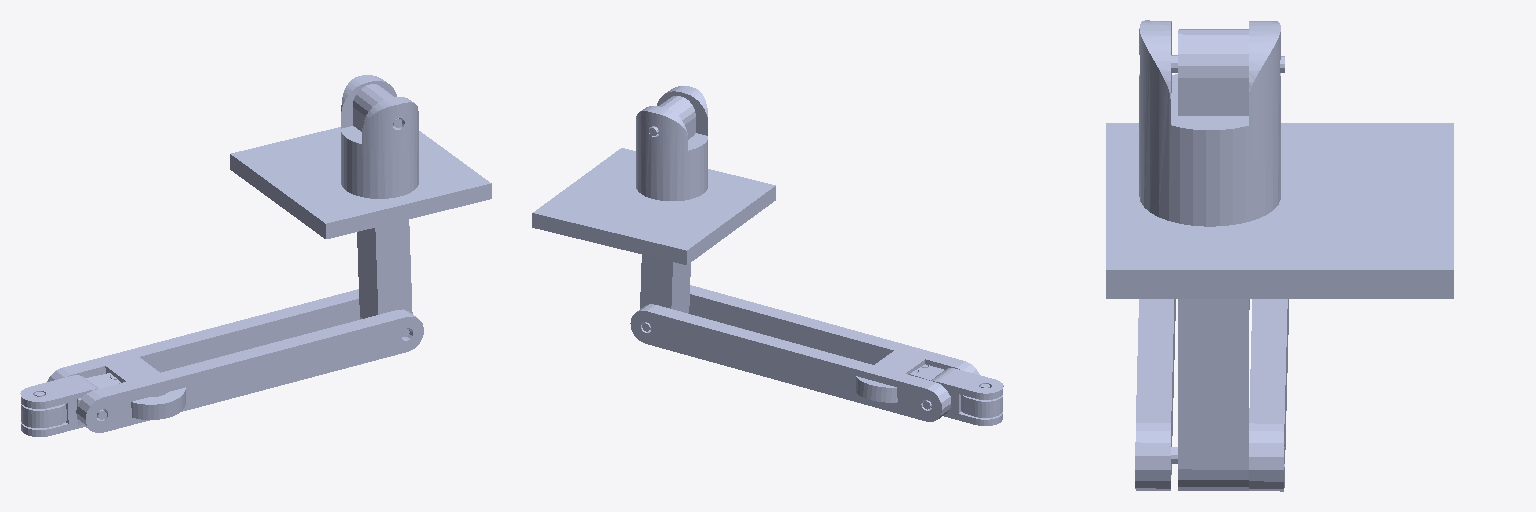
The robot description file, URDF, robot "Kinematic Model":
<?xml version="1.0" encoding="utf-8"?>
<!-- This URDF was automatically created by SolidWorks to URDF Exporter! Originally created by [author] ([email redacted]) 
     Commit Version: 1.6.0-4-g7f85cfe  Build Version: 1.6.7995.38578
     For more information, please see http://wiki.ros.org/sw_urdf_exporter -->
<robot
  name="Kinematic Model">
  <link
    name="base_link">
    <inertial>
      <origin
        xyz="0.125 0.124876444248601 0.0114927663217105"
        rpy="0 0 0" />
      <mass
        value="1.4322893517415" />
      <inertia
        ixx="0.00751499612969008"
        ixy="-4.14857977079374E-20"
        ixz="5.59883976854344E-23"
        iyy="0.00750616961569954"
        iyz="4.48386910719772E-06"
        izz="0.0148917103717458" />
    </inertial>
    <visual>
      <origin
        xyz="0 0 0"
        rpy="0 0 0" />
      <geometry>
        <mesh
          filename="package://Kinematic Model/meshes/base_link.STL" />
      </geometry>
      <material
        name="">
        <color
          rgba="0.792156862745098 0.819607843137255 0.933333333333333 1" />
      </material>
    </visual>
    <collision>
      <origin
        xyz="0 0 0"
        rpy="0 0 0" />
      <geometry>
        <mesh
          filename="package://Kinematic Model/meshes/base_link.STL" />
      </geometry>
    </collision>
  </link>
  <link
    name="link 1">
    <inertial>
      <origin
        xyz="1.35962641978349E-08 -4.49406609148717E-10 0.0499583991824579"
        rpy="0 0 0" />
      <mass
        value="0.745389957969349" />
      <inertia
        ixx="0.001236165400749"
        ixy="-2.28287179719541E-09"
        ixz="3.29901987186261E-10"
        iyy="0.0013781182334038"
        iyz="-4.34931645812276E-09"
        izz="0.00103853376973756" />
    </inertial>
    <visual>
      <origin
        xyz="0 0 0"
        rpy="0 0 0" />
      <geometry>
        <mesh
          filename="package://Kinematic Model/meshes/link 1.STL" />
      </geometry>
      <material
        name="">
        <color
          rgba="0.792156862745098 0.819607843137255 0.933333333333333 1" />
      </material>
    </visual>
    <collision>
      <origin
        xyz="0 0 0"
        rpy="0 0 0" />
      <geometry>
        <mesh
          filename="package://Kinematic Model/meshes/link 1.STL" />
      </geometry>
    </collision>
  </link>
  <joint
    name="joint1"
    type="revolute">
    <origin
      xyz="0.125 0.075 0.02286"
      rpy="0 0 1.5604" />
    <parent
      link="base_link" />
    <child
      link="link 1" />
    <axis
      xyz="0 0 1" />
    <limit
      lower="-1.57"
      upper="1.57"
      effort="0"
      velocity="1000" />
  </joint>
  <link
    name="link 2">
    <inertial>
      <origin
        xyz="-0.00254000000000003 -1.38777878078145E-16 0.1524"
        rpy="0 0 0" />
      <mass
        value="0.902412401721688" />
      <inertia
        ixx="0.00932089199361009"
        ixy="5.21772295508649E-19"
        ixz="3.29211266351205E-18"
        iyy="0.00934567259590457"
        iyz="1.80203426434754E-18"
        izz="0.000396566779325695" />
    </inertial>
    <visual>
      <origin
        xyz="0 0 0"
        rpy="0 0 0" />
      <geometry>
        <mesh
          filename="package://Kinematic Model/meshes/link 2.STL" />
      </geometry>
      <material
        name="">
        <color
          rgba="0.792156862745098 0.819607843137255 0.933333333333333 1" />
      </material>
    </visual>
    <collision>
      <origin
        xyz="0 0 0"
        rpy="0 0 0" />
      <geometry>
        <mesh
          filename="package://Kinematic Model/meshes/link 2.STL" />
      </geometry>
    </collision>
  </link>
  <joint
    name="joint2"
    type="revolute">
    <origin
      xyz="0 0 0.10478"
      rpy="0.034608 0 -3.1416" />
    <parent
      link="link 1" />
    <child
      link="link 2" />
    <axis
      xyz="1 0 0" />
    <limit
      lower="-4.71"
      upper="-1.57"
      effort="0"
      velocity="1000" />
  </joint>
  <link
    name="link 3">
    <inertial>
      <origin
        xyz="-7.49400541621981E-16 -0.244277581812728 4.6074255521944E-15"
        rpy="0 0 0" />
      <mass
        value="1.40181180581322" />
      <inertia
        ixx="0.0284750839313573"
        ixy="-7.46524017733105E-17"
        ixz="-6.46286138755031E-19"
        iyy="0.00248306633762881"
        iyz="4.43761218675115E-17"
        izz="0.03035643992009" />
    </inertial>
    <visual>
      <origin
        xyz="0 0 0"
        rpy="0 0 0" />
      <geometry>
        <mesh
          filename="package://Kinematic Model/meshes/link 3.STL" />
      </geometry>
      <material
        name="">
        <color
          rgba="0.792156862745098 0.819607843137255 0.933333333333333 1" />
      </material>
    </visual>
    <collision>
      <origin
        xyz="0 0 0"
        rpy="0 0 0" />
      <geometry>
        <mesh
          filename="package://Kinematic Model/meshes/link 3.STL" />
      </geometry>
    </collision>
  </link>
  <joint
    name="joint3"
    type="revolute">
    <origin
      xyz="0 0 0.3048"
      rpy="3.1314 0 0" />
    <parent
      link="link 2" />
    <child
      link="link 3" />
    <axis
      xyz="1 0 0" />
    <limit
      lower="0"
      upper="3.14"
      effort="0"
      velocity="1000" />
  </joint>
  <link
    name="link 4">
    <inertial>
      <origin
        xyz="0 -0.0190759946076533 0"
        rpy="0 0 0" />
      <mass
        value="0.194716381321942" />
      <inertia
        ixx="0.00018975455749685"
        ixy="-6.35274710440725E-21"
        ixz="-1.19047833758632E-20"
        iyy="9.84824842685459E-05"
        iyz="9.12637559289373E-19"
        izz="0.000194597566216488" />
    </inertial>
    <visual>
      <origin
        xyz="0 0 0"
        rpy="0 0 0" />
      <geometry>
        <mesh
          filename="package://Kinematic Model/meshes/link 4.STL" />
      </geometry>
      <material
        name="">
        <color
          rgba="0.792156862745098 0.819607843137255 0.933333333333333 1" />
      </material>
    </visual>
    <collision>
      <origin
        xyz="0 0 0"
        rpy="0 0 0" />
      <geometry>
        <mesh
          filename="package://Kinematic Model/meshes/link 4.STL" />
      </geometry>
    </collision>
  </link>
  <joint
    name="joint4"
    type="revolute">
    <origin
      xyz="0 -0.4572 0"
      rpy="-0.0047459 0 0" />
    <parent
      link="link 3" />
    <child
      link="link 4" />
    <axis
      xyz="1 0 0" />
    <limit
      lower="-1.57"
      upper="1.57"
      effort="0"
      velocity="1000" />
  </joint>
  <link
    name="link 5">
    <inertial>
      <origin
        xyz="-4.85722573273506E-17 -0.0228654552938931 -5.68305317155682E-05"
        rpy="0 0 0" />
      <mass
        value="0.0345139192629378" />
      <inertia
        ixx="3.9382385101554E-05"
        ixy="-1.41878018665095E-20"
        ixz="1.49719690872098E-21"
        iyy="9.77314082989533E-06"
        iyz="4.48493188575395E-08"
        izz="4.18538740394483E-05" />
    </inertial>
    <visual>
      <origin
        xyz="0 0 0"
        rpy="0 0 0" />
      <geometry>
        <mesh
          filename="package://Kinematic Model/meshes/link 5.STL" />
      </geometry>
      <material
        name="">
        <color
          rgba="0.792156862745098 0.819607843137255 0.933333333333333 1" />
      </material>
    </visual>
    <collision>
      <origin
        xyz="0 0 0"
        rpy="0 0 0" />
      <geometry>
        <mesh
          filename="package://Kinematic Model/meshes/link 5.STL" />
      </geometry>
    </collision>
  </link>
  <joint
    name="joint5"
    type="revolute">
    <origin
      xyz="0 -0.0635 0"
      rpy="3.1416 0 3.0664" />
    <parent
      link="link 4" />
    <child
      link="link 5" />
    <axis
      xyz="0 0 1" />
    <limit
      lower="1.57"
      upper="4.71"
      effort="0"
      velocity="1000" />
  </joint>
  <link
    name="link 6">
    <inertial>
      <origin
        xyz="0.00308285974901888 -0.0721978117099332 1.68677960488139E-10"
        rpy="0 0 0" />
      <mass
        value="0.20810172376109" />
      <inertia
        ixx="0.000148964014298967"
        ixy="9.90419646766673E-06"
        ixz="-3.69564194208723E-13"
        iyy="8.63259499506949E-05"
        iyz="2.04359342953527E-12"
        izz="0.000194010143112663" />
    </inertial>
    <visual>
      <origin
        xyz="0 0 0"
        rpy="0 0 0" />
      <geometry>
        <mesh
          filename="package://Kinematic Model/meshes/link 6.STL" />
      </geometry>
      <material
        name="">
        <color
          rgba="0.792156862745098 0.819607843137255 0.933333333333333 1" />
      </material>
    </visual>
    <collision>
      <origin
        xyz="0 0 0"
        rpy="0 0 0" />
      <geometry>
        <mesh
          filename="package://Kinematic Model/meshes/link 6.STL" />
      </geometry>
    </collision>
  </link>
  <joint
    name="joint6"
    type="revolute">
    <origin
      xyz="0 -0.042878 0"
      rpy="-3.1416 0.060969 3.1416" />
    <parent
      link="link 5" />
    <child
      link="link 6" />
    <axis
      xyz="0 1 0" />
    <limit
      lower="-6.28"
      upper="6.28"
      effort="0"
      velocity="1000" />
  </joint>
</robot>

--- What the picture shows (computed from the rendered views, not written in the file) ---
3 views of the same robot in one strip: view 1: azimuth 30°, elevation 25°; view 2: azimuth 150°, elevation 25°; view 3: azimuth 270°, elevation 25° (orthographic).
Robot: Kinematic Model — 7 links, 6 joints (6 revolute); root link base_link; default pose: all joints at 0 but 2 set to mid-range because 0 is outside their limits (joint2 = -3.14, joint5 = 3.14).
Visible links, largest first — view 1: link 3, base_link, link 1, link 2, link 4, link 6, link 5; view 2: link 3, base_link, link 1, link 2, link 4, link 6, link 5; view 3: base_link, link 1, link 2, link 3.
Link boxes in pixels (left/top/right/bottom): link 3: left=47, top=289, right=423, bottom=432; base_link: left=230, top=127, right=491, bottom=238; link 1: left=341, top=75, right=418, bottom=198; link 2: left=353, top=84, right=412, bottom=336; link 4: left=20, top=375, right=106, bottom=436; link 6: left=77, top=363, right=185, bottom=425; link 5: left=21, top=392, right=66, bottom=427; link 3: left=630, top=285, right=979, bottom=421; base_link: left=532, top=148, right=775, bottom=264; link 1: left=636, top=86, right=707, bottom=200; link 2: left=640, top=96, right=695, bottom=331; link 4: left=923, top=368, right=1003, bottom=425; link 6: left=855, top=364, right=943, bottom=402; link 5: left=961, top=384, right=1002, bottom=417; base_link: left=1106, top=123, right=1453, bottom=298; link 1: left=1139, top=20, right=1280, bottom=226; link 2: left=1171, top=29, right=1284, bottom=490; link 3: left=1135, top=299, right=1288, bottom=491.
Bounding box of the posed robot: 0.6603 × 0.25 × 0.3723 m (x, y, z).
7 mesh visuals loaded from 7 distinct referenced files (7 binary STL).